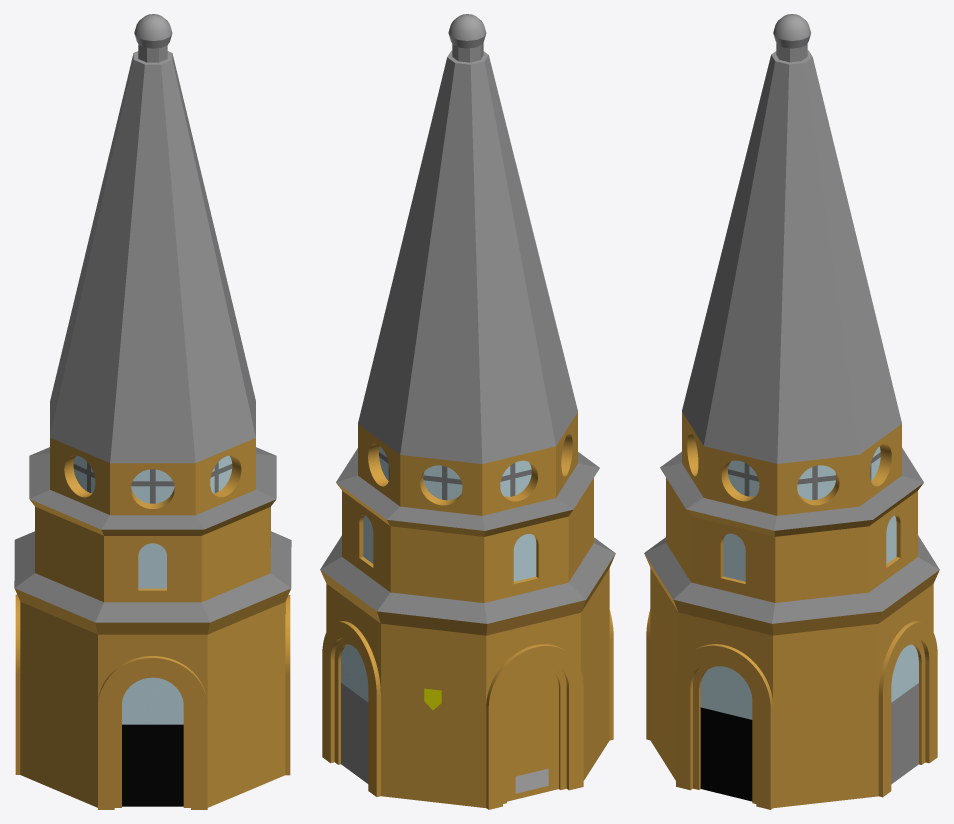
The model's file is chasovnya-buynichi.glb.
The picture shows the model from 3 angles, left to right: view 1: azimuth 30°, elevation 25°; view 2: azimuth 150°, elevation 25°; view 3: azimuth 270°, elevation 25°; orthographic projection.
Parts seen in each view (by area): view 1: Geom3D (×5); view 2: Geom3D (×5); view 3: Geom3D (×5).
Part boxes in pixels (x1,y1,x2,y2): Geom3D (×5): [14, 14, 291, 809]; Geom3D (×5): [320, 14, 615, 809]; Geom3D (×5): [644, 14, 939, 809].
Bounding box in the file's own units: 0.6087 × 1.66 × 0.6087.
Materials: 7 (1 with a texture image).
